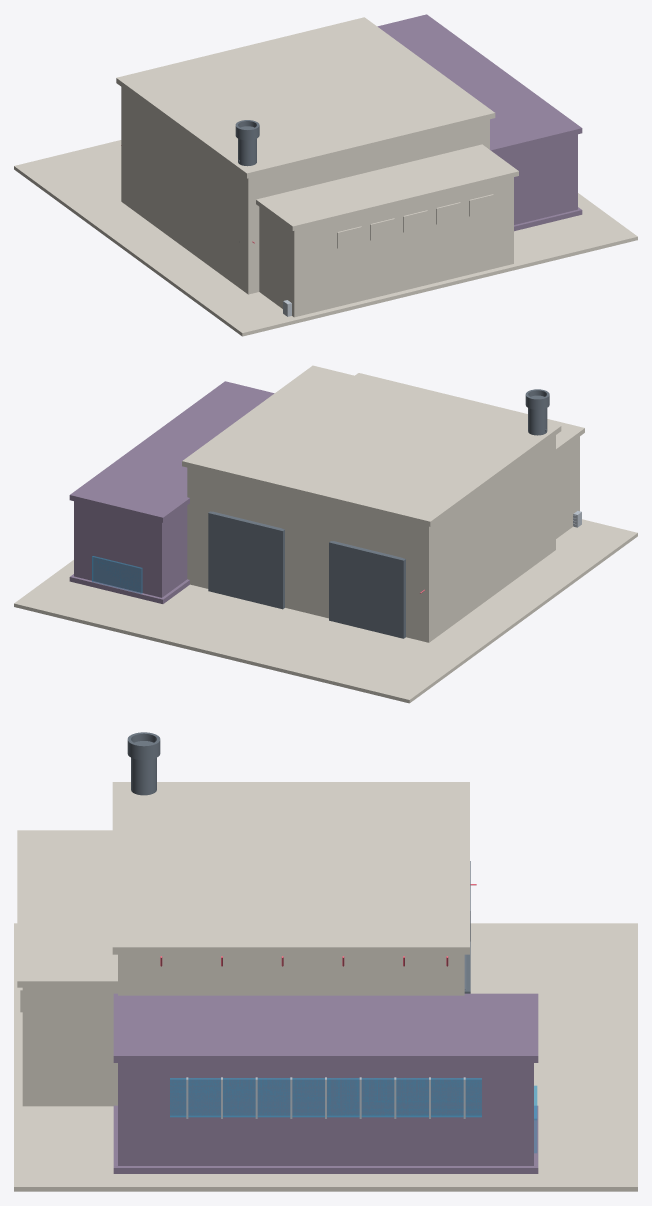
Rendered from hq_09_commercial_l2.glb.
3 renders of one model, top to bottom at view 1: azimuth 30°, elevation 25°; view 2: azimuth 150°, elevation 25°; view 3: azimuth 270°, elevation 25°, orthographic. The views are drawn at different scales.
Parts seen in each view (by area): view 1: GEO_Commercial_Service_Depot_Shell, GEO_Commercial_Torsional_Rig_Shell, GEO_Commercial_Foundation_Plinth, GEO_Commercial_Dispatch_Halls, GEO_Commercial_Soot_Exhaust_Stack; view 2: GEO_Commercial_Service_Depot_Shell, GEO_Commercial_Foundation_Plinth, GEO_Commercial_Dispatch_Halls, GEO_Commercial_HighClearance_Doors, GEO_Commercial_Torsional_Rig_Shell, GEO_Commercial_Dispatch_Glass, GEO_Commercial_Soot_Exhaust_Stack; view 3: GEO_Commercial_Service_Depot_Shell, GEO_Commercial_Dispatch_Halls, GEO_Commercial_Foundation_Plinth, GEO_Commercial_Torsional_Rig_Shell, GEO_Commercial_Dispatch_Glass, GEO_Commercial_Soot_Exhaust_Stack, GEO_Commercial_Dispatch_Mullions.
Boxes of the visible parts, <box> form: GEO_Commercial_Service_Depot_Shell: <box>116,17,495,294</box>; GEO_Commercial_Torsional_Rig_Shell: <box>256,144,518,317</box>; GEO_Commercial_Foundation_Plinth: <box>14,140,637,336</box>; GEO_Commercial_Dispatch_Halls: <box>377,14,582,231</box>; GEO_Commercial_Soot_Exhaust_Stack: <box>235,120,259,166</box>; GEO_Commercial_Service_Depot_Shell: <box>182,365,561,642</box>; GEO_Commercial_Foundation_Plinth: <box>14,519,637,703</box>; GEO_Commercial_Dispatch_Halls: <box>69,381,274,603</box>; GEO_Commercial_HighClearance_Doors: <box>208,511,405,638</box>; GEO_Commercial_Torsional_Rig_Shell: <box>355,373,584,538</box>; GEO_Commercial_Dispatch_Glass: <box>92,556,142,593</box>; GEO_Commercial_Soot_Exhaust_Stack: <box>525,389,549,435</box>; GEO_Commercial_Service_Depot_Shell: <box>112,782,469,995</box>; GEO_Commercial_Dispatch_Halls: <box>113,993,538,1173</box>; GEO_Commercial_Foundation_Plinth: <box>14,923,637,1191</box>; GEO_Commercial_Torsional_Rig_Shell: <box>17,830,117,1106</box>; GEO_Commercial_Dispatch_Glass: <box>170,1078,537,1152</box>; GEO_Commercial_Soot_Exhaust_Stack: <box>127,732,160,795</box>; GEO_Commercial_Dispatch_Mullions: <box>186,1077,465,1118</box>.
Size of what is drawn, in the model's own units: 36 by 14.25 by 36.
